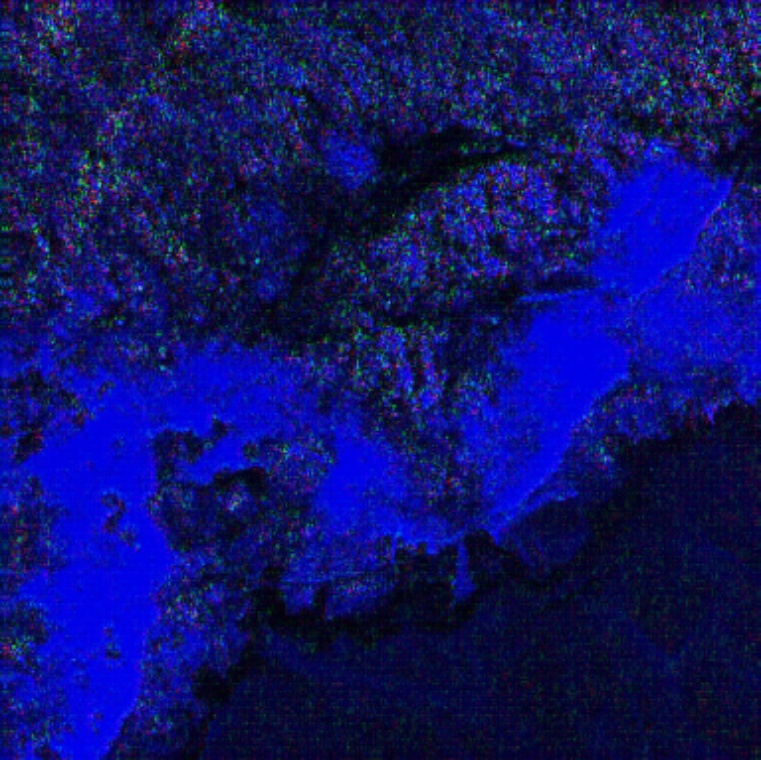rip_current: (243, 259, 526, 499)
